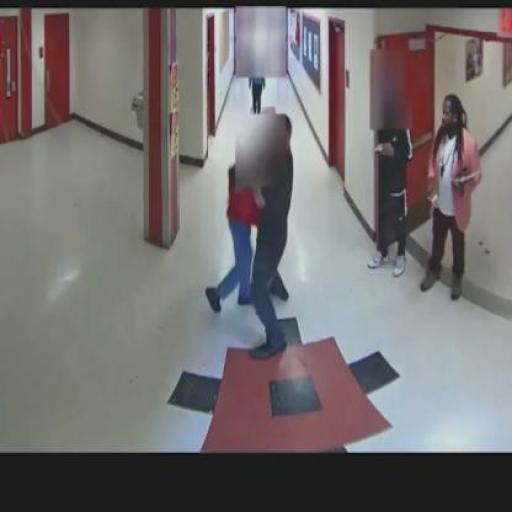Fighting: (208, 114, 299, 360)
